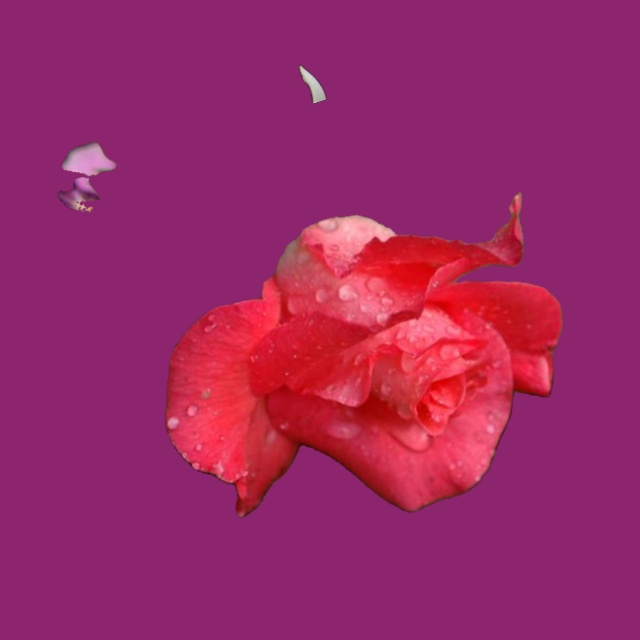foxglove: (57, 142, 116, 211)
frangipani: (299, 65, 325, 103)
rose: (165, 192, 562, 516)
